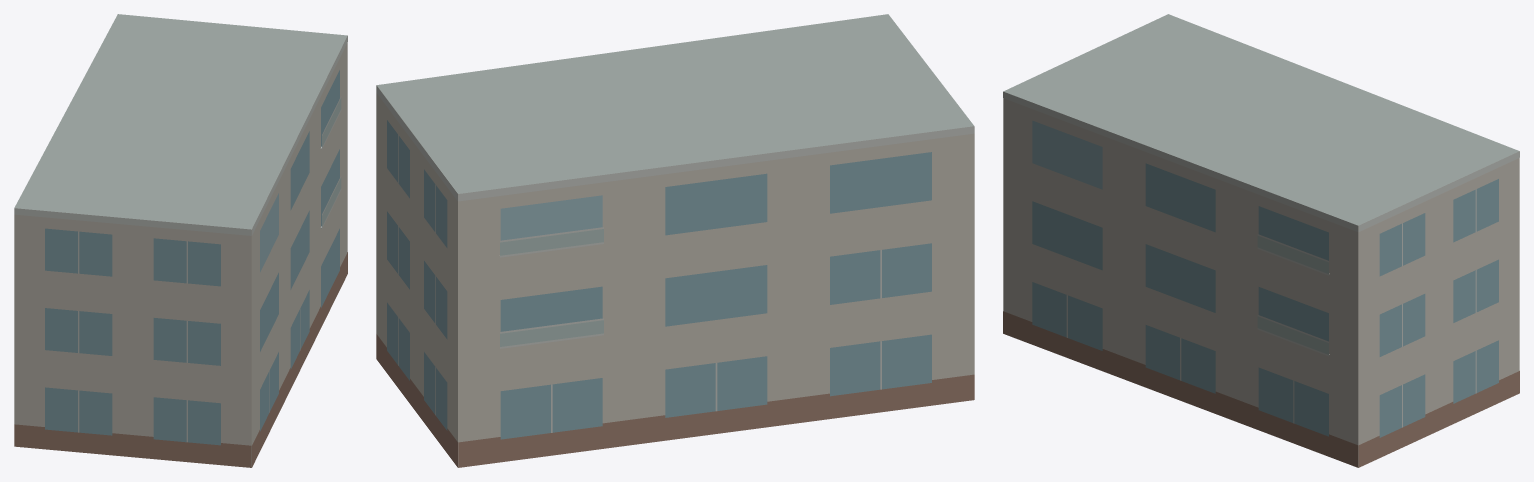
File: survey-upis-33038499.glb
3 views of the same model, side by side, from view 1: azimuth 30°, elevation 25°; view 2: azimuth 150°, elevation 25°; view 3: azimuth 270°, elevation 25° (orthographic). The views are drawn at different scales.
Parts seen in each view (by area): view 1: survey-upis-33038499.tmp; view 2: survey-upis-33038499.tmp; view 3: survey-upis-33038499.tmp.
Part boxes in pixels (box(x1,y1,x2,y2)): survey-upis-33038499.tmp: box(14, 14, 347, 467); survey-upis-33038499.tmp: box(376, 14, 974, 467); survey-upis-33038499.tmp: box(1003, 14, 1519, 467).
Bounding box in the file's own units: 16.89 × 9 × 17.41.
